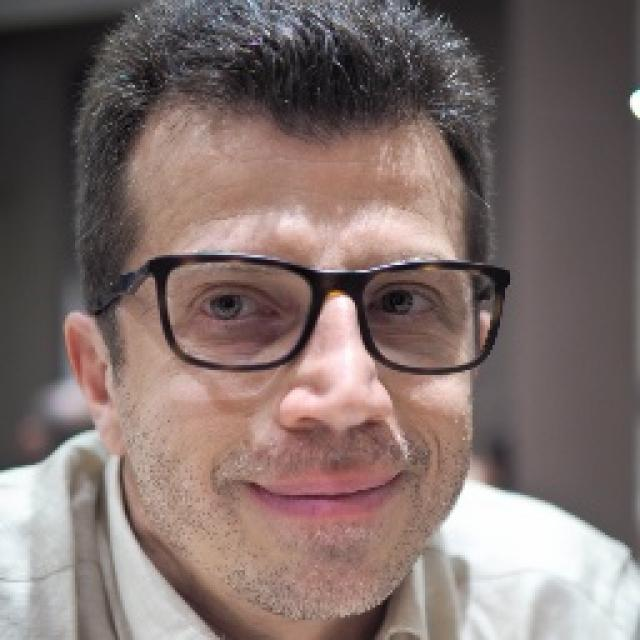earlobe: (62, 314, 130, 460)
